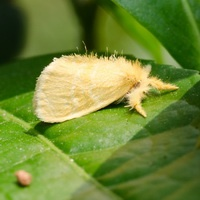insect: (33, 54, 177, 122)
